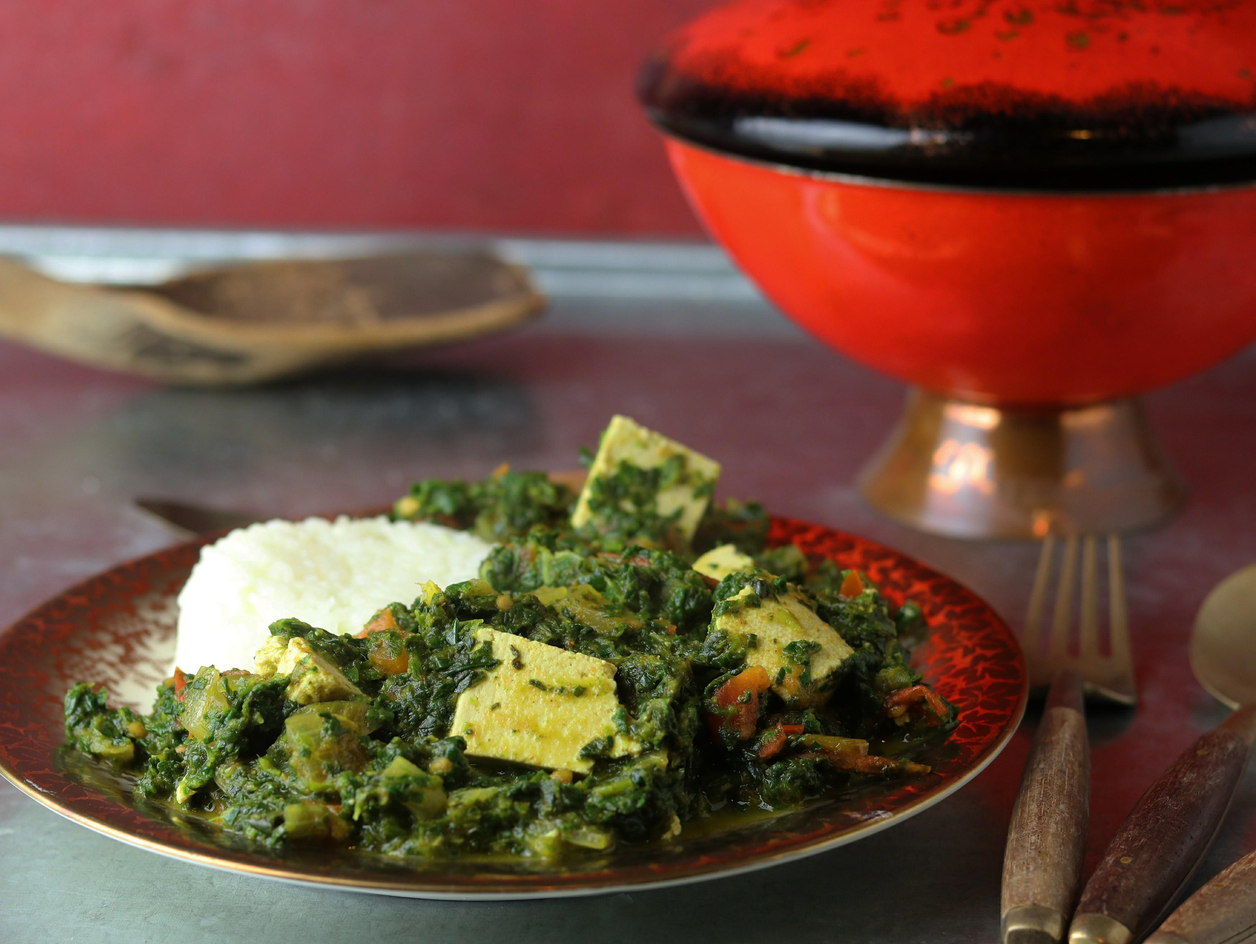PalakPaneer: (65, 403, 959, 861)
